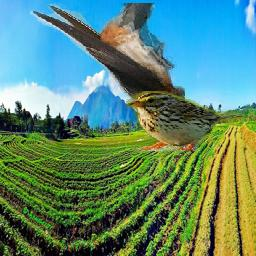Sparrow: (127, 91, 246, 151)
Swallow: (31, 3, 186, 111)
